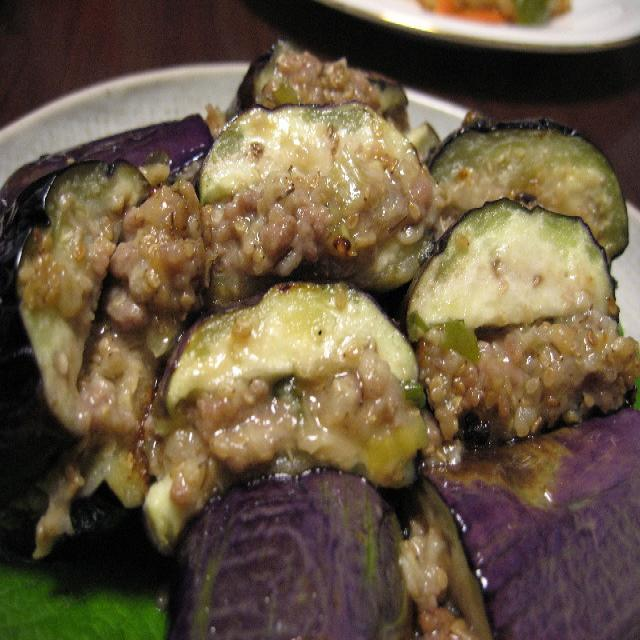鸡蛋料理: (0, 44, 640, 640)
